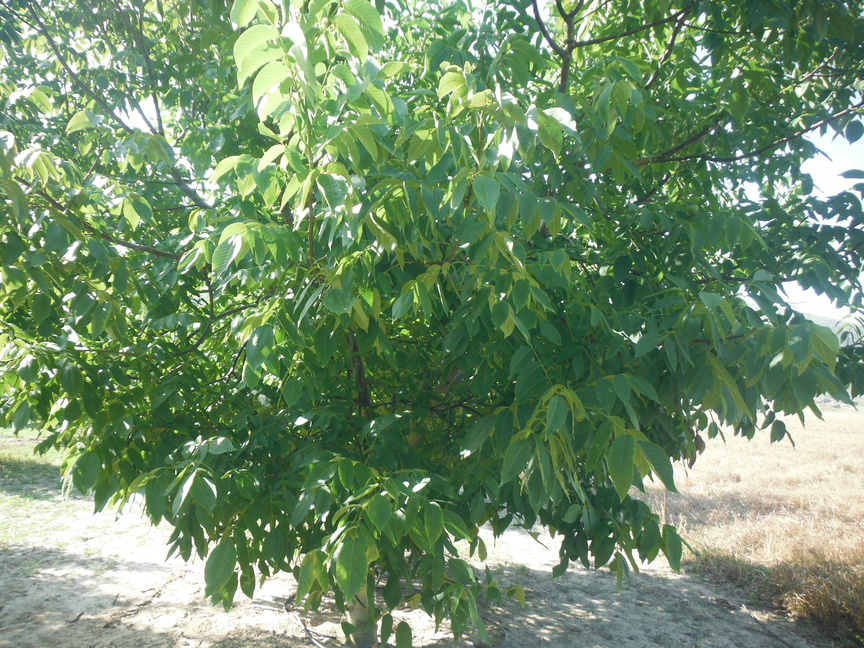walnut: (570, 403, 587, 425), (60, 257, 78, 276), (377, 488, 393, 504), (597, 73, 613, 89), (108, 298, 123, 315), (685, 204, 700, 217), (796, 237, 809, 252), (592, 351, 604, 367), (167, 236, 179, 249), (409, 27, 421, 39), (78, 66, 89, 77), (329, 370, 340, 381), (585, 244, 595, 256)
